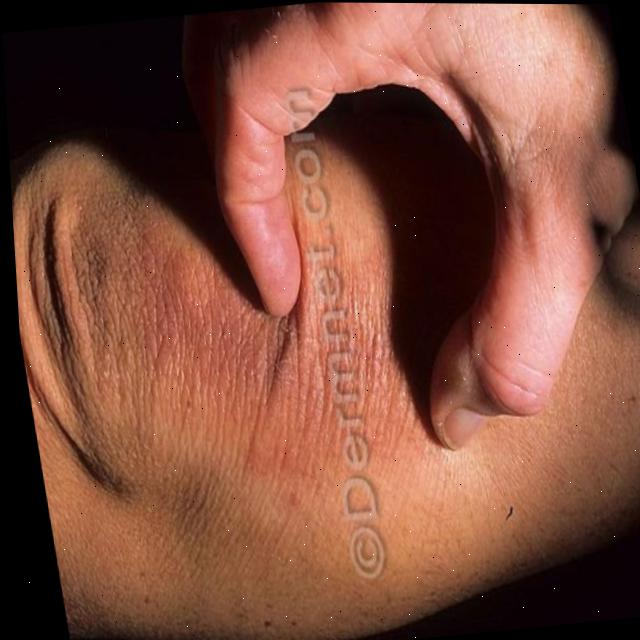Eczema: (132, 265, 405, 471)
